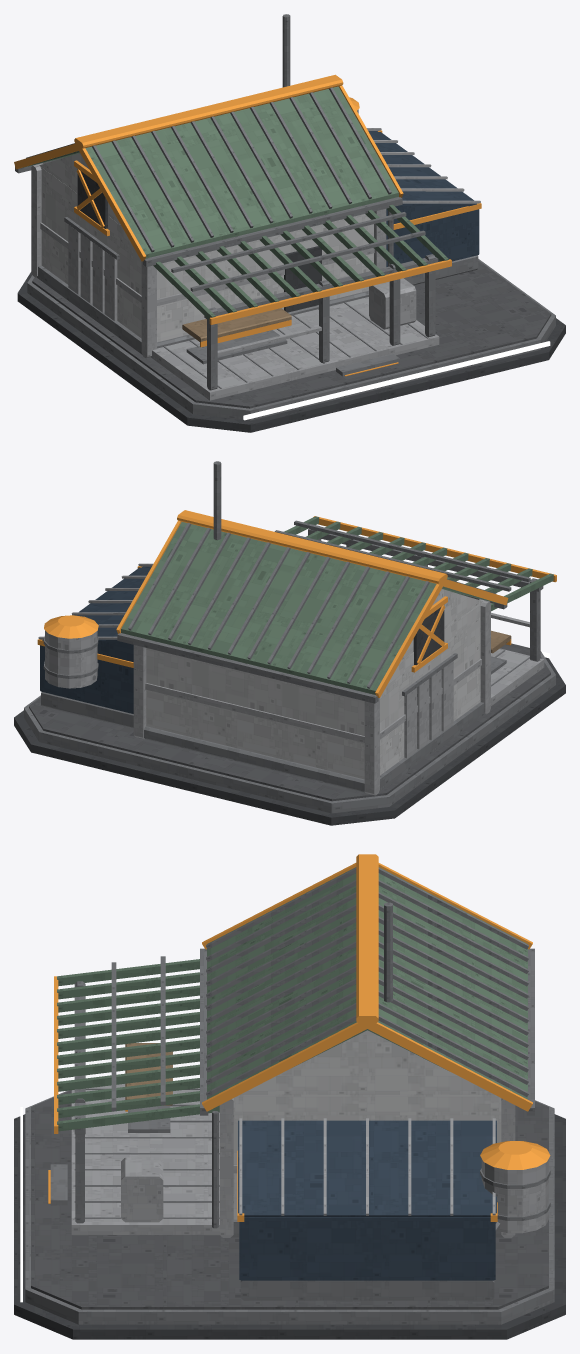
The model's file is farmhouse_lod2.glb.
3 renders of one model, top to bottom at view 1: azimuth 30°, elevation 25°; view 2: azimuth 150°, elevation 25°; view 3: azimuth 270°, elevation 25°, orthographic. The views are drawn at different scales.
Parts seen in each view (by area): view 1: farmhouse_base_body.002, farmhouse_base_trim.002, farmhouse_bench_body.002, farmhouse_inlay_glow.002; view 2: farmhouse_base_body.002, farmhouse_base_trim.002, farmhouse_bench_body.002; view 3: farmhouse_base_body.002, farmhouse_base_trim.002, farmhouse_bench_body.002.
Part boxes in pixels (x1,y1,x2,y2): farmhouse_base_body.002: (15, 14, 565, 432); farmhouse_base_trim.002: (14, 74, 481, 376); farmhouse_bench_body.002: (182, 308, 291, 364); farmhouse_inlay_glow.002: (243, 341, 550, 420); farmhouse_base_body.002: (14, 461, 565, 825); farmhouse_base_trim.002: (37, 510, 556, 697); farmhouse_bench_body.002: (491, 630, 511, 674); farmhouse_base_body.002: (14, 867, 565, 1339); farmhouse_base_trim.002: (48, 854, 550, 1221); farmhouse_bench_body.002: (125, 1043, 172, 1132).
Size of the model in its own units: 3.96 by 2.65 by 3.92.
3 materials, 1 textured.
